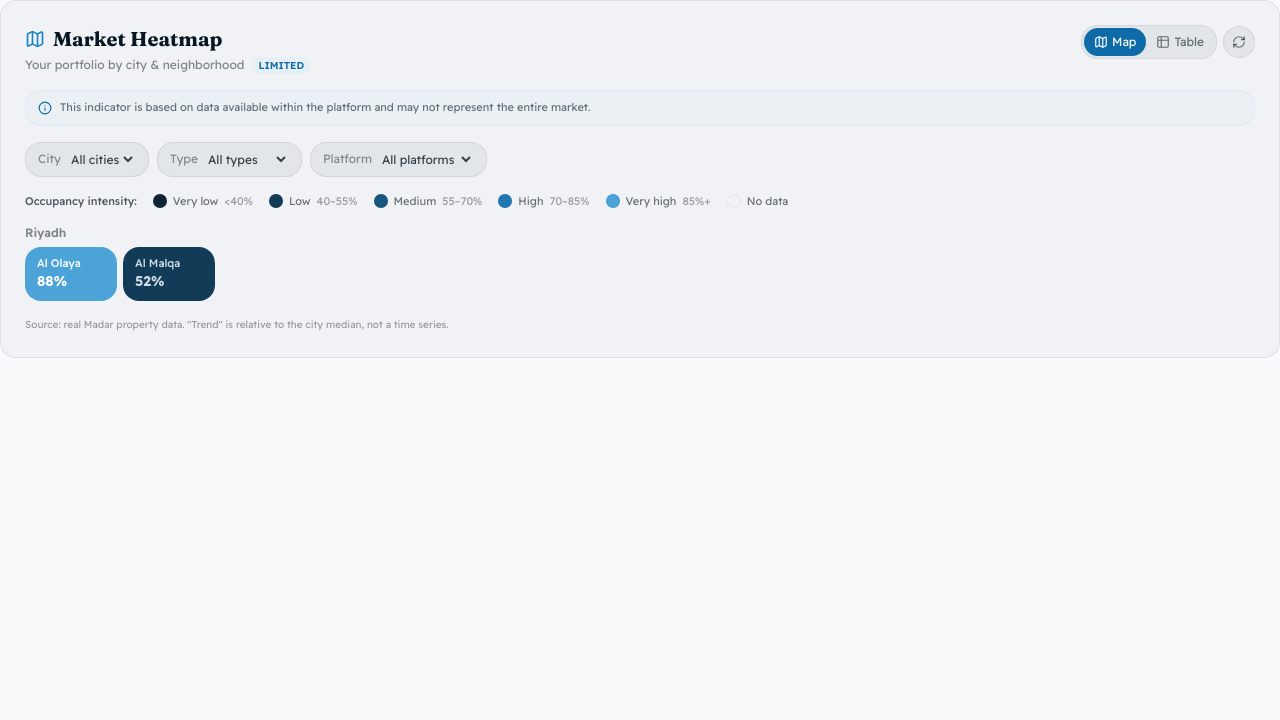
Test: own-portfolio heatmap (Growth) renders real cells › shows cells, legend, and reveals occupancy/ADR/trend/insight on click
Expected: the text "Occupancy intensity:" is shown, [25,193,137,209]
Step 1. Click the button with aria-label "Al Olaya, Riyadh, 88% occupancy" → (71, 274), box [25,247,117,301]
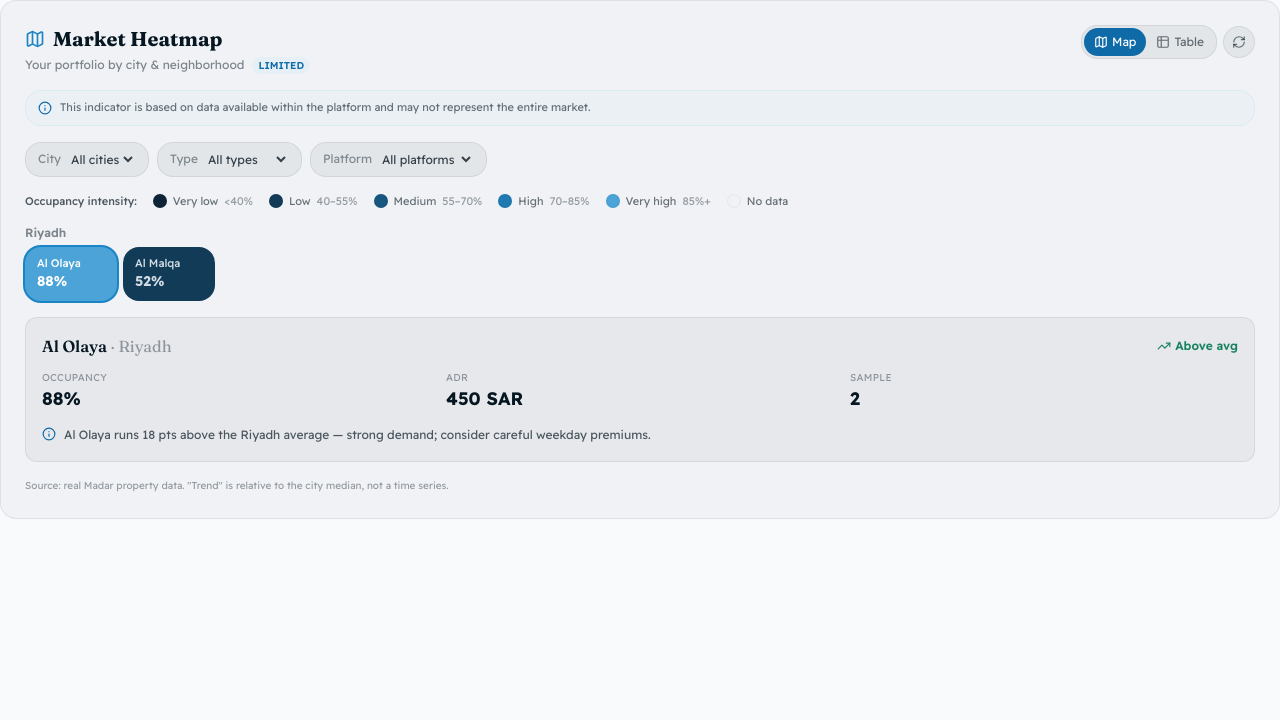
Now the text "450 SAR" is shown, box [446,387,523,410]
Now the text "above the Riyadh average" is shown, box [64,427,651,442]
